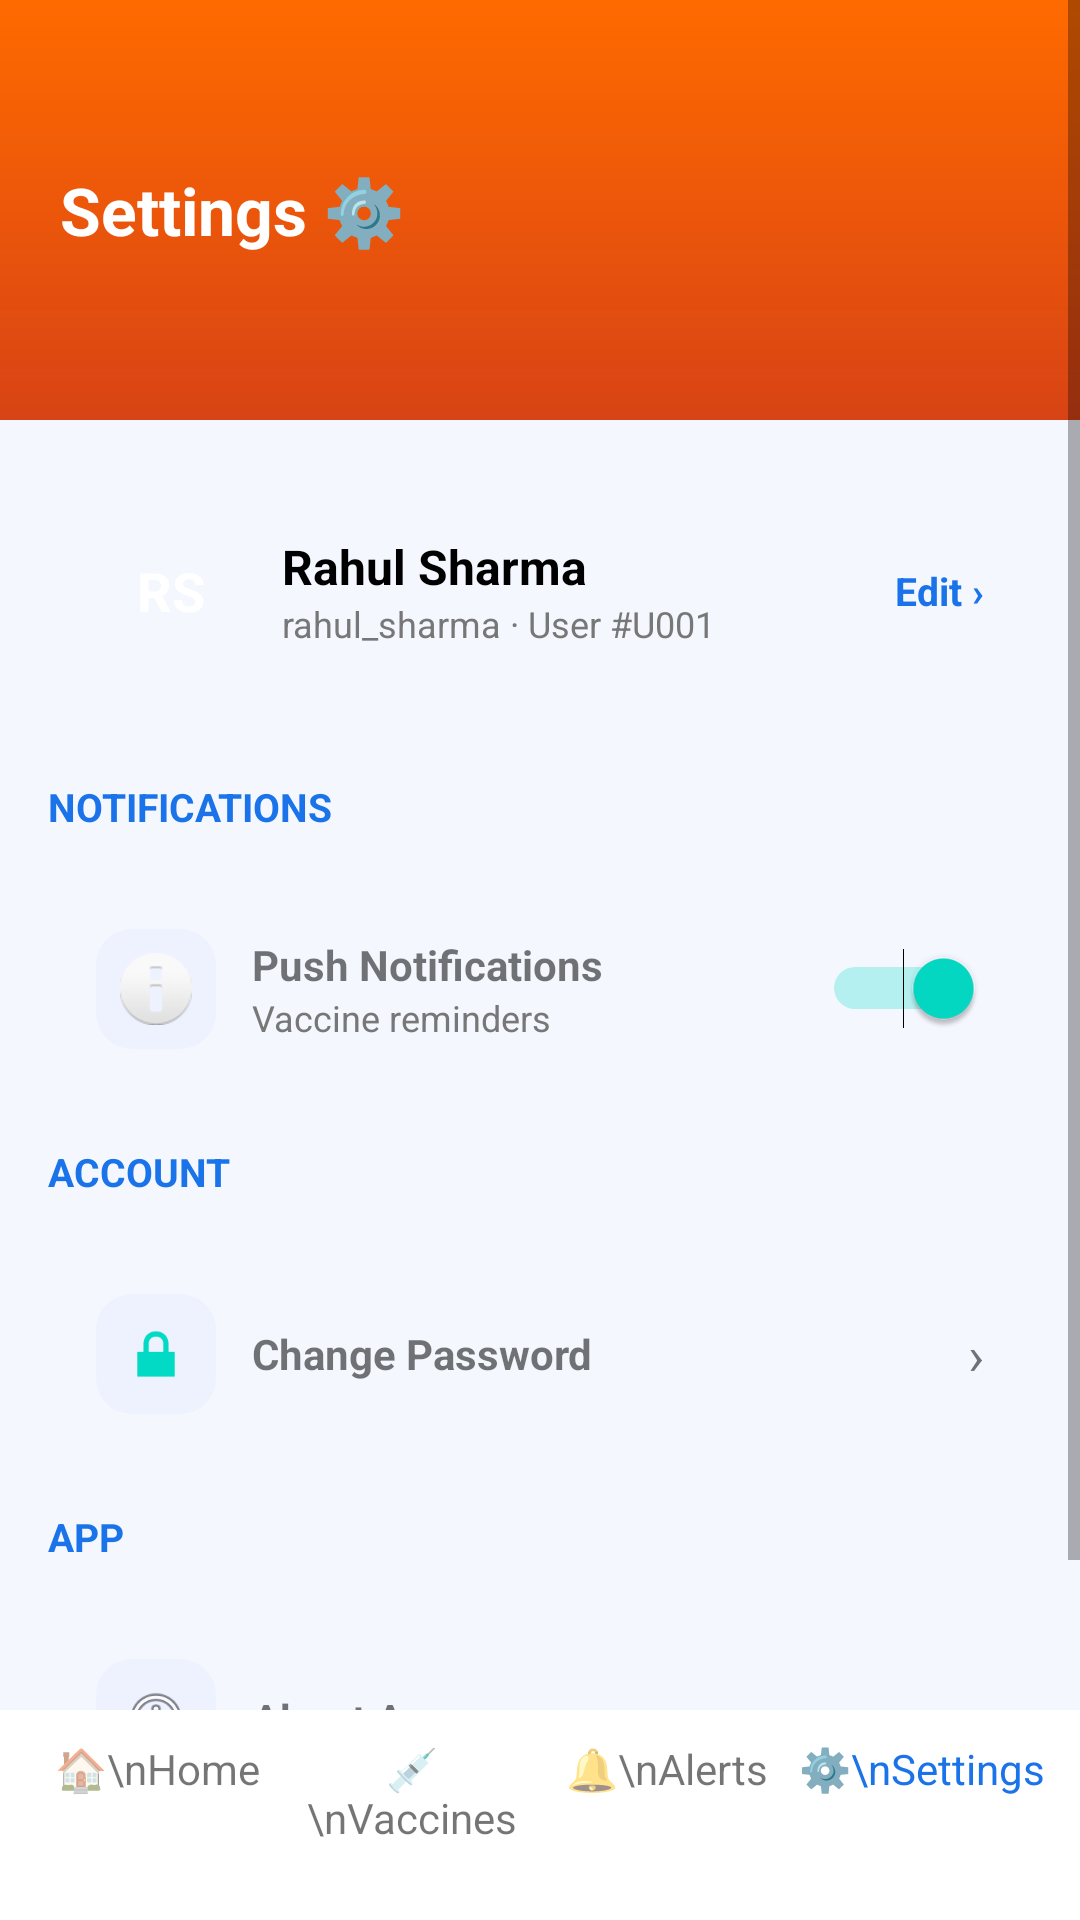

Where to tap for icons on this 1080*1920 app screen, as [x,y]:
lock: [156,1354]
